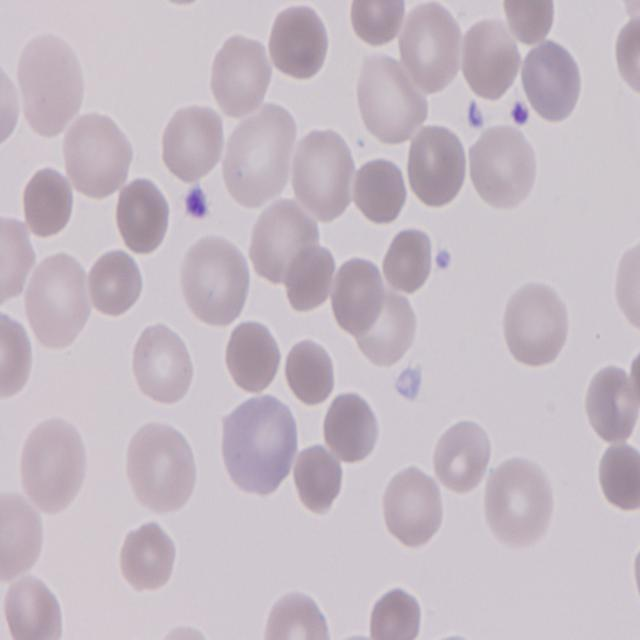Platelets: (184, 188, 209, 226)
RBC: (18, 412, 92, 516), (24, 252, 94, 358), (176, 232, 250, 332), (354, 52, 428, 150), (123, 421, 199, 516), (482, 454, 557, 550), (60, 110, 134, 200), (469, 118, 541, 210), (500, 280, 570, 374), (292, 128, 360, 220), (399, 0, 464, 96), (402, 120, 470, 210), (208, 32, 272, 124), (378, 460, 444, 548), (460, 15, 524, 102), (128, 322, 193, 407), (158, 100, 224, 182), (522, 34, 582, 124), (582, 357, 637, 444), (223, 319, 283, 398), (112, 175, 171, 253), (333, 255, 387, 339), (0, 485, 45, 583), (432, 418, 490, 494), (88, 246, 146, 320), (119, 519, 177, 591), (380, 225, 436, 298), (262, 588, 340, 640), (6, 574, 64, 640), (367, 583, 428, 639), (0, 211, 35, 307), (594, 442, 640, 512), (612, 236, 640, 341), (0, 312, 32, 403), (614, 12, 640, 98)
Spherocyte: (266, 1, 332, 80), (278, 334, 336, 409), (322, 390, 380, 464), (352, 153, 410, 224), (20, 168, 74, 240)
WBC: (205, 387, 302, 528)
